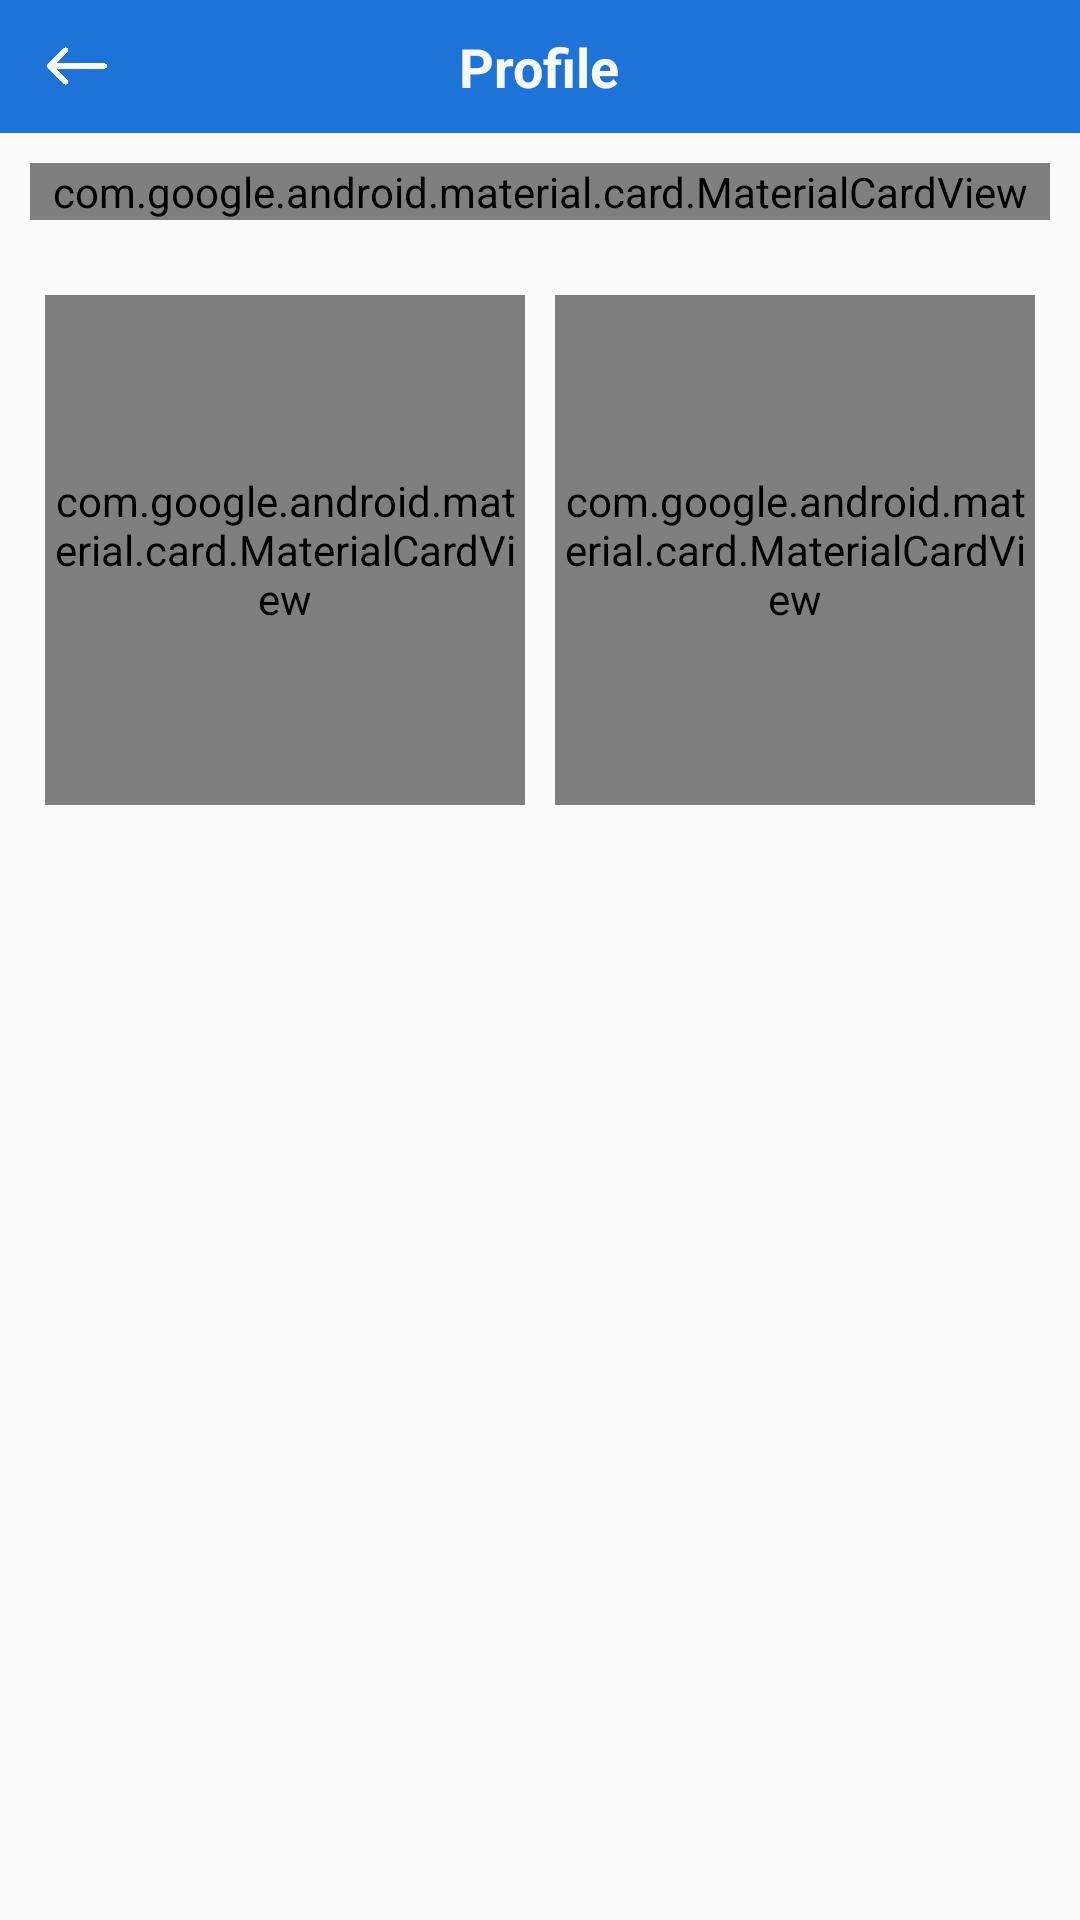

Point at icon controls on the screen. Image size 1080 x 1920, points as point (x, y).
leftarrow: point (77, 66)
